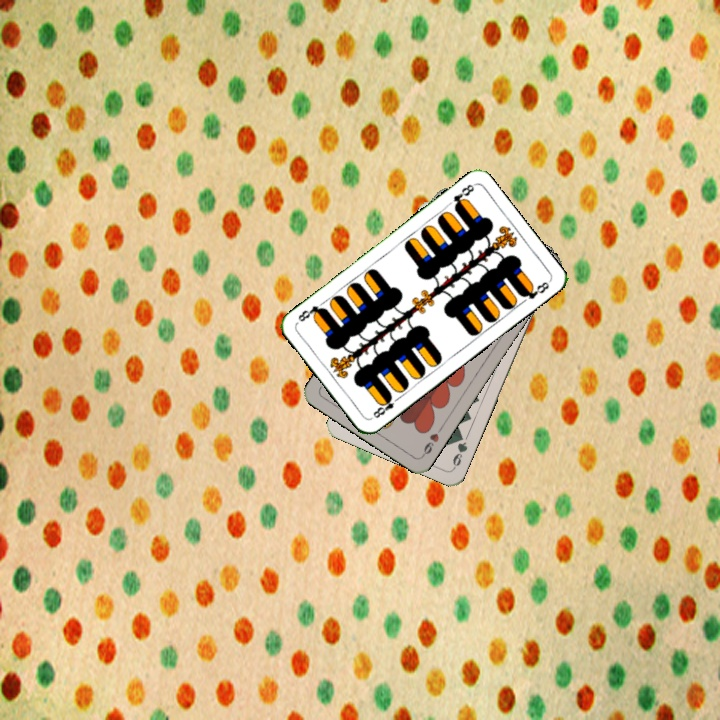E8: (369, 391, 403, 421), (449, 180, 477, 212)
G9: (448, 430, 470, 471)
H9: (418, 423, 445, 459)
